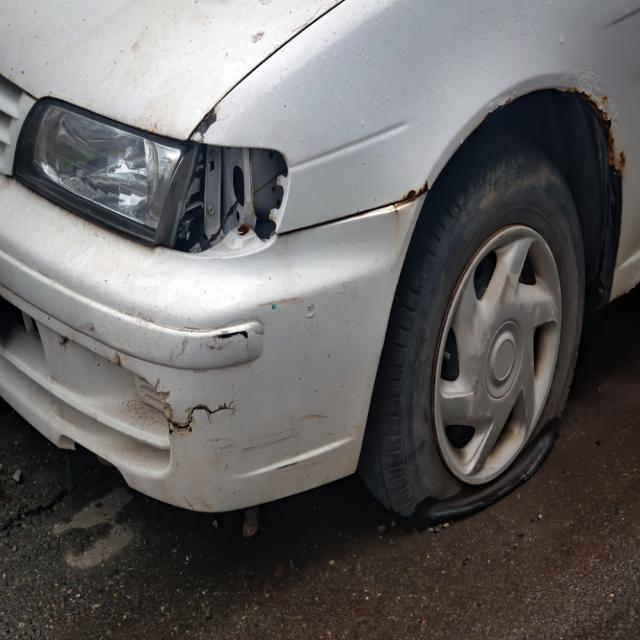crack: (167, 401, 236, 433)
tire flat: (360, 125, 591, 520)
